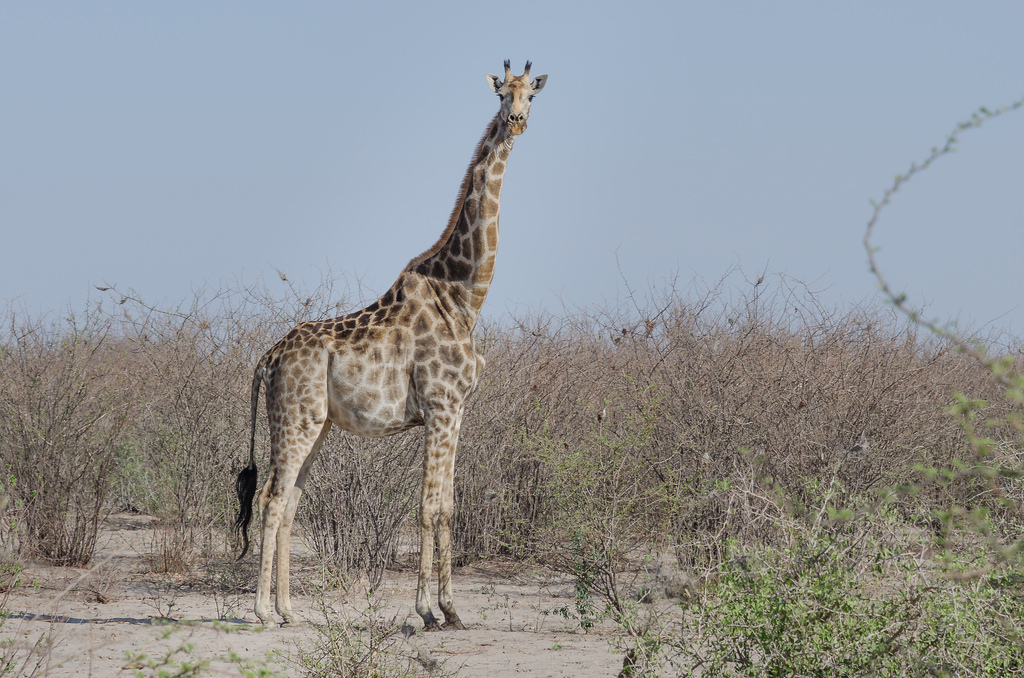giraffe: (194, 43, 593, 635)
